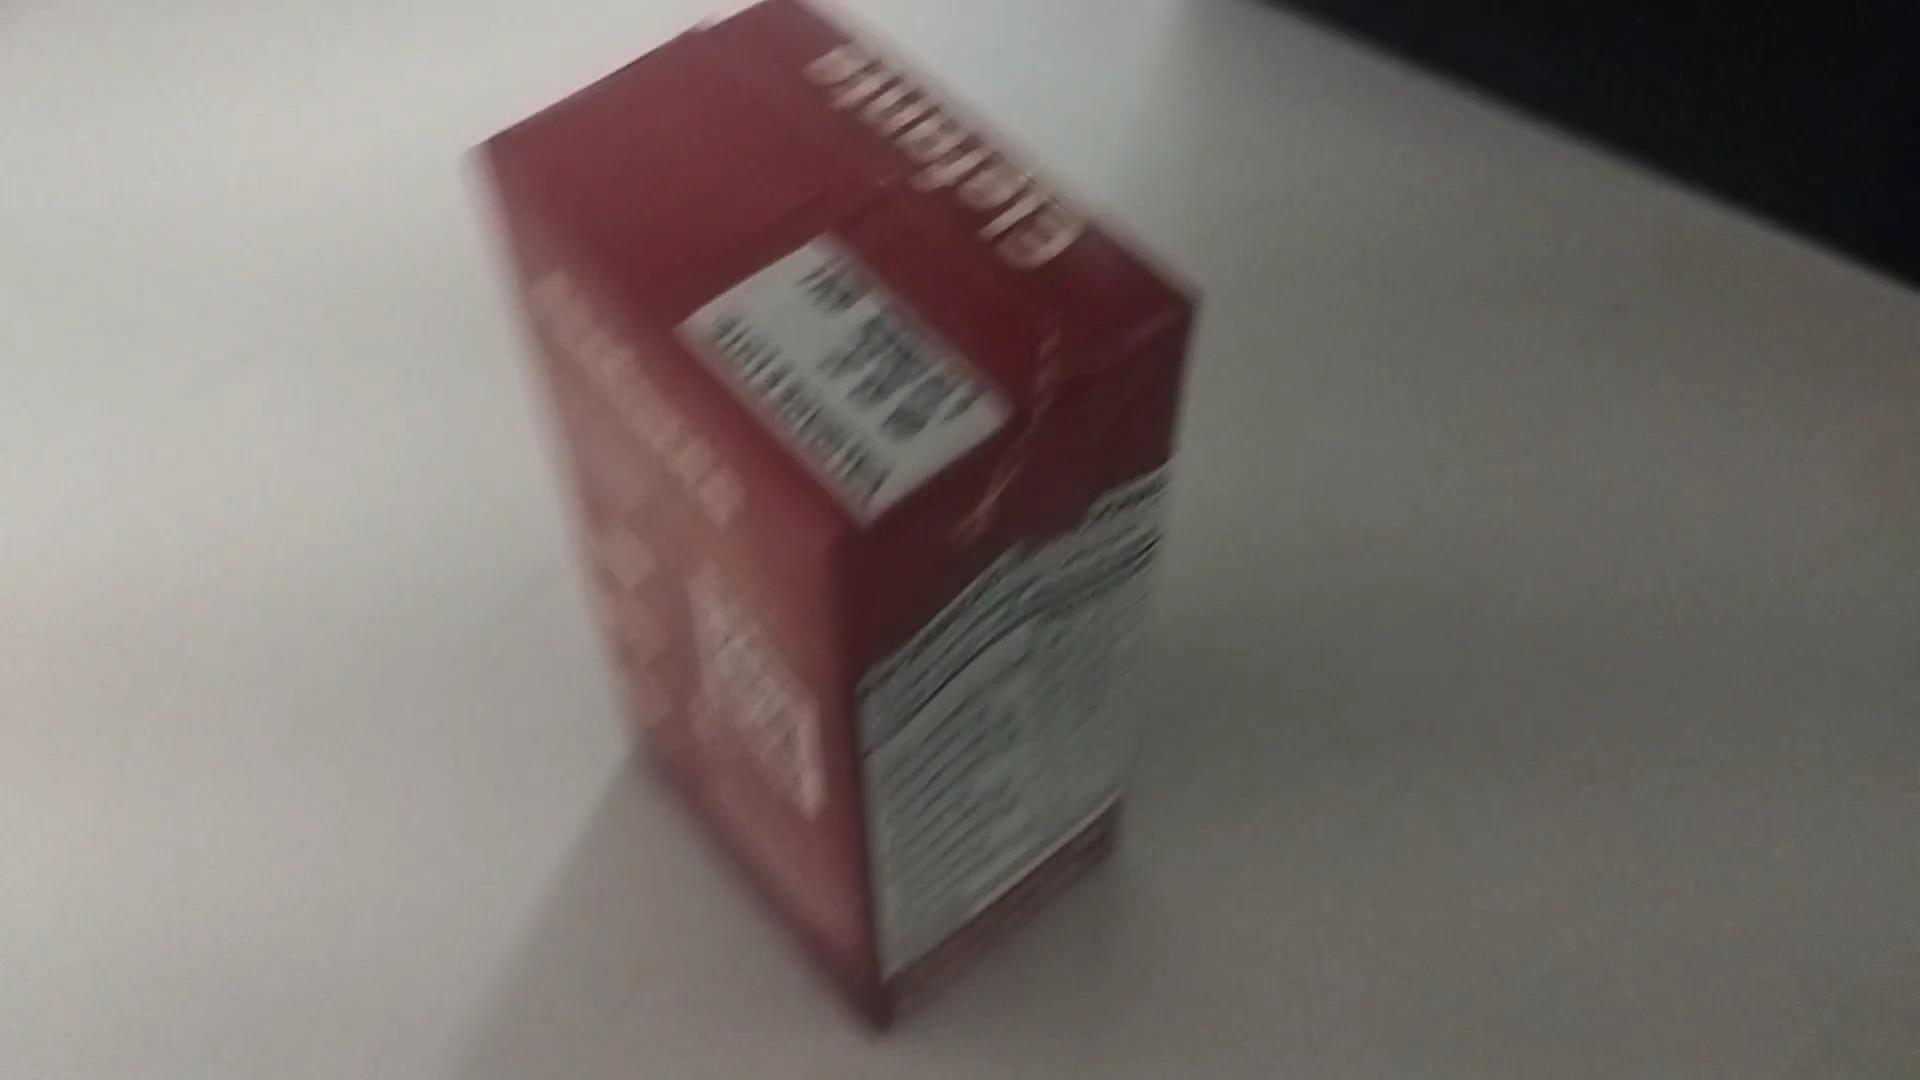tomate: (454, 0, 1204, 1029)
